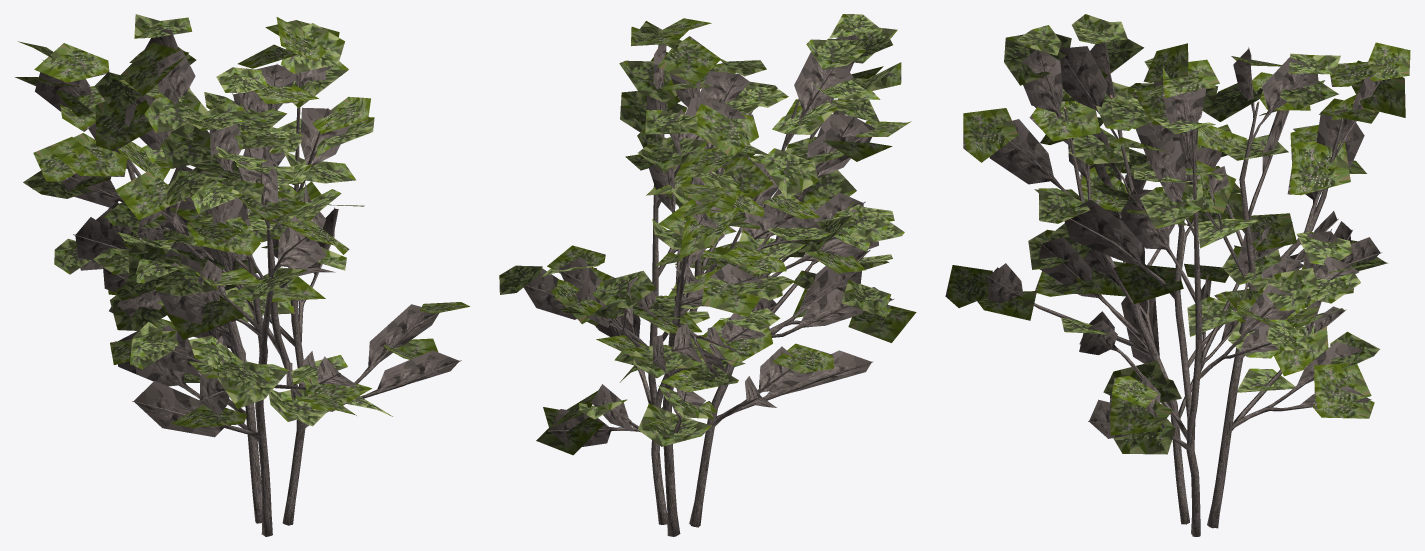
File: Tree_05.fbx
The picture shows the model from 3 angles, left to right: view 1: azimuth 30°, elevation 25°; view 2: azimuth 150°, elevation 25°; view 3: azimuth 270°, elevation 25°; orthographic projection. The views are drawn at different scales.
Parts seen in each view (by area): view 1: LOD0; view 2: LOD0; view 3: LOD0.
Part boxes in pixels (<box>): LOD0: <box>15,14,469,536</box>; LOD0: <box>499,14,916,536</box>; LOD0: <box>945,14,1410,536</box>.
Size of the model in its own units: 251 by 354 by 308.
